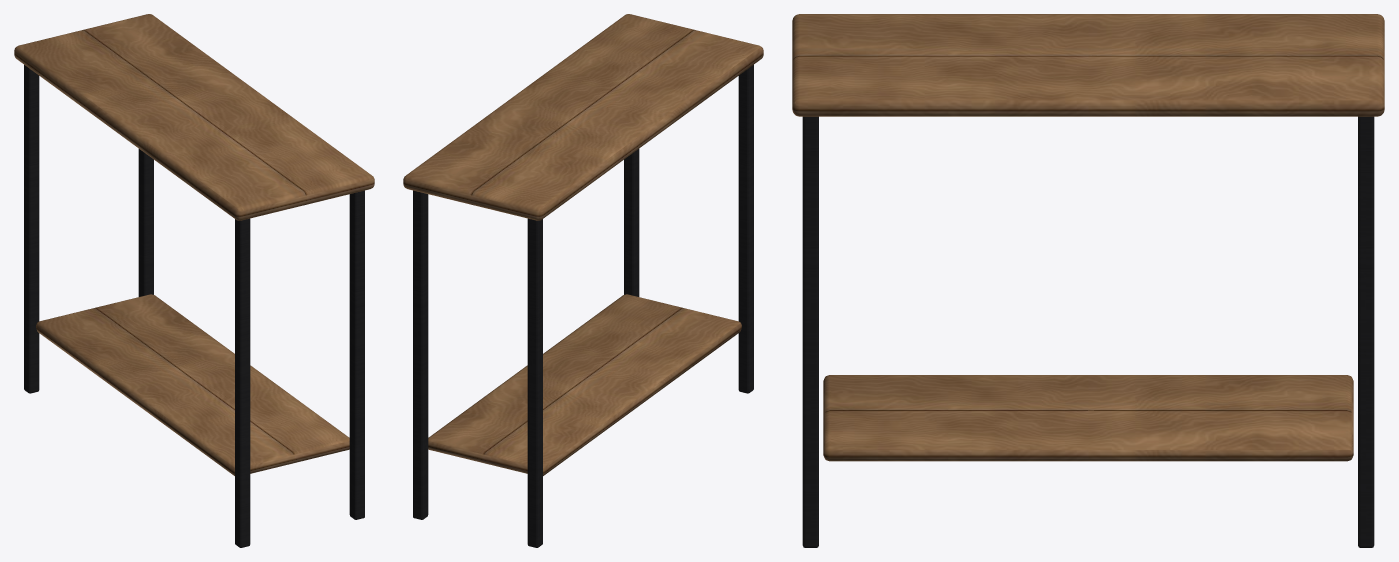
Rendered from foyer_console.glb.
3 views of the same model, side by side, from view 1: azimuth 30°, elevation 25°; view 2: azimuth 150°, elevation 25°; view 3: azimuth 270°, elevation 25° (orthographic). The views are drawn at different scales.
Parts seen in each view (by area): view 1: foyer_console; view 2: foyer_console; view 3: foyer_console.
Part boxes in pixels (bbox=[...]): foyer_console: bbox=[14, 14, 374, 547]; foyer_console: bbox=[403, 14, 763, 547]; foyer_console: bbox=[792, 14, 1384, 547].
Bounding box in the file's own units: 0.34 × 0.8 × 0.95.
2 materials, 2 textured.
